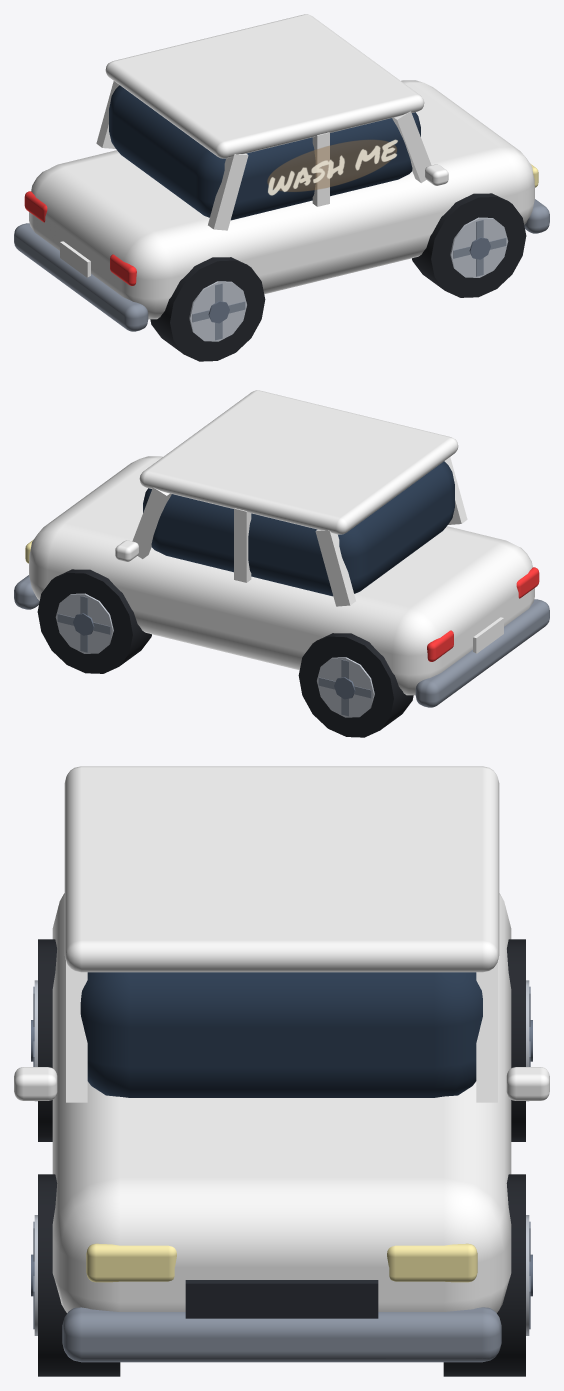
The model's file is car_sedan.glb.
The picture shows the model from 3 angles, top to bottom: view 1: azimuth 30°, elevation 25°; view 2: azimuth 150°, elevation 25°; view 3: azimuth 270°, elevation 25°; orthographic projection. The views are drawn at different scales.
Parts seen in each view (by area): view 1: Paint, Trim, Wheel1, Wheel0, WashMe; view 2: Paint, Trim, Wheel3, Wheel2; view 3: Paint, Trim, Wheel0, Wheel2, Wheel1, Wheel3.
Boxes of the visible parts, box(x1,y1,x2,y2) form: Paint: box(29, 14, 534, 319); Trim: box(14, 85, 549, 331); Wheel1: box(150, 257, 265, 361); Wheel0: box(412, 193, 526, 297); WashMe: box(267, 139, 397, 195); Paint: box(29, 390, 534, 695); Trim: box(14, 461, 549, 707); Wheel3: box(298, 633, 413, 737); Wheel2: box(37, 569, 151, 673); Paint: box(14, 766, 549, 1312); Trim: box(62, 972, 501, 1362); Wheel0: box(31, 1174, 120, 1376); Wheel2: box(443, 1174, 532, 1376); Wheel1: box(31, 939, 56, 1141); Wheel3: box(507, 939, 532, 1141).
Bounding box in the file's own units: 3.74 × 1.74 × 2.22.
7 materials, 1 textured.
